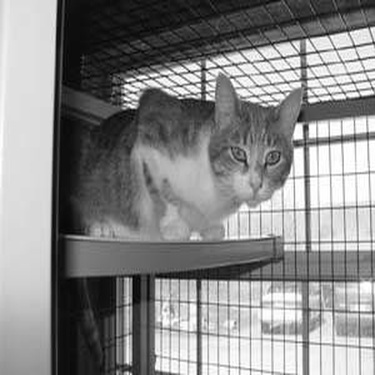cat: (76, 71, 305, 242)
